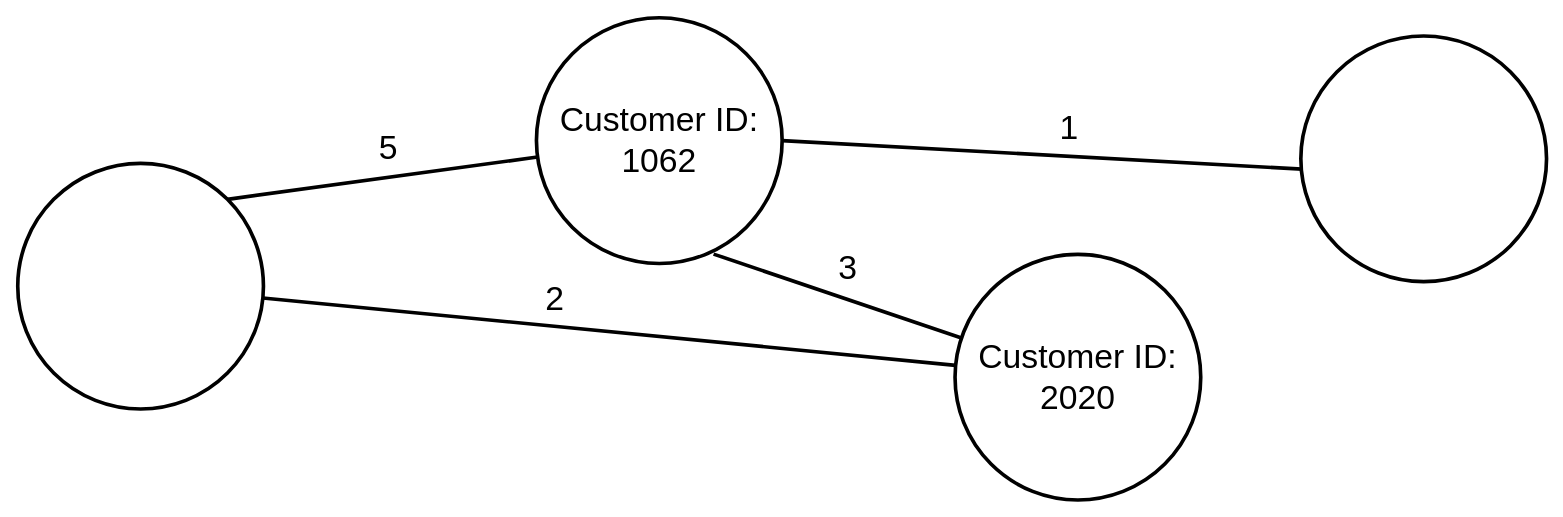
Some shapes in this 1563 by 517 pixel diagram are drawn without their labels. The shapes that lost their labels are listed below. From the top down, each one's centre as x and y in pixels, then its label:
At [1423,158]: "Customer ID: 4023".
At [140,285]: "Customer ID: 1012".
